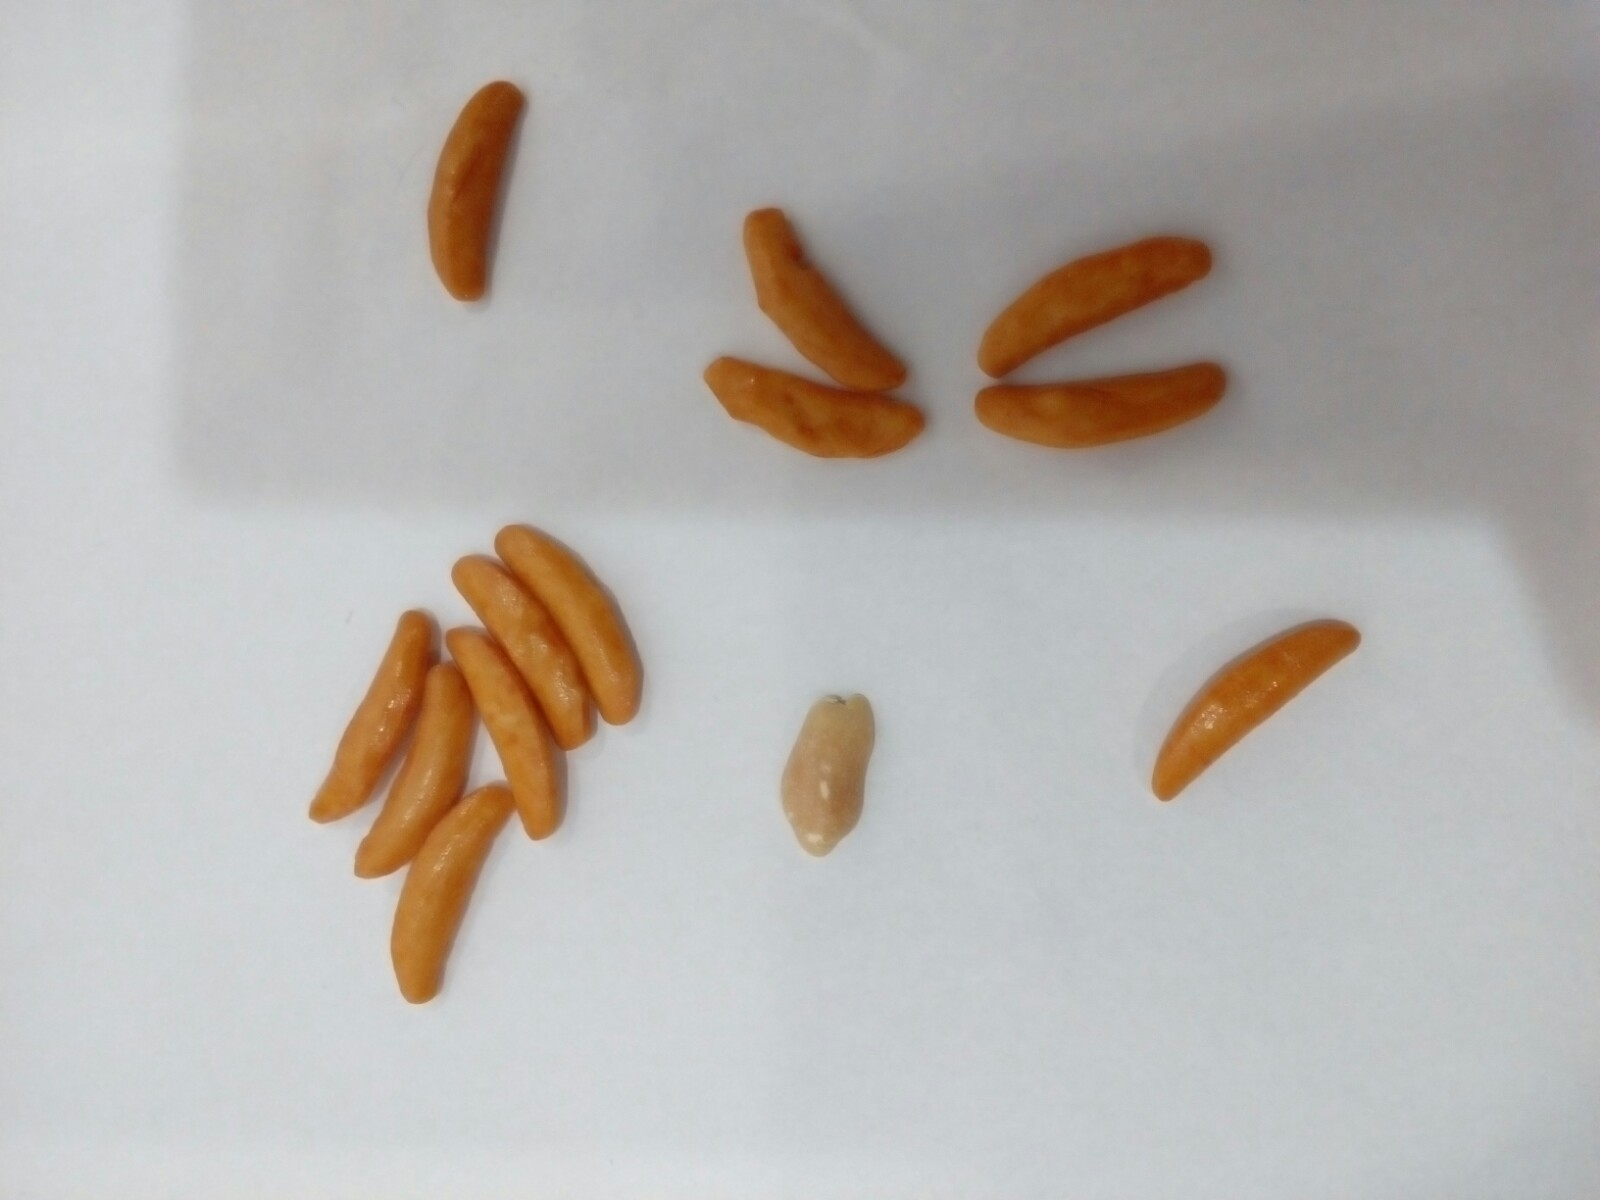peanut: (765, 677, 887, 860)
